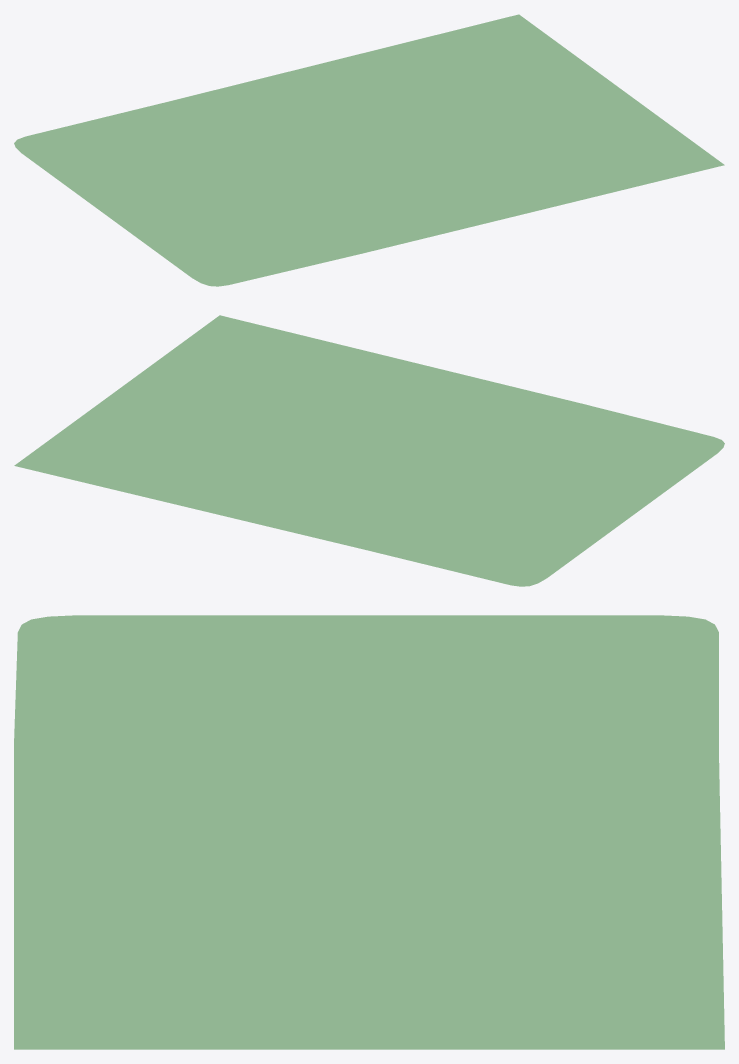
Rendered from GrassZone3.fbx.
The picture shows the model from 3 angles, top to bottom: view 1: azimuth 30°, elevation 25°; view 2: azimuth 150°, elevation 25°; view 3: azimuth 270°, elevation 25°; orthographic projection. The views are drawn at different scales.
Visible parts, largest first — view 1: GrassZone3__7__002; view 2: GrassZone3__7__002; view 3: GrassZone3__7__002.
Part boxes in pixels (x1,y1,x2,y2): GrassZone3__7__002: [14, 14, 724, 286]; GrassZone3__7__002: [14, 315, 724, 586]; GrassZone3__7__002: [14, 615, 724, 1049].
Bounding box in the file's own units: 18815 × 8.88e-07 × 13022.
